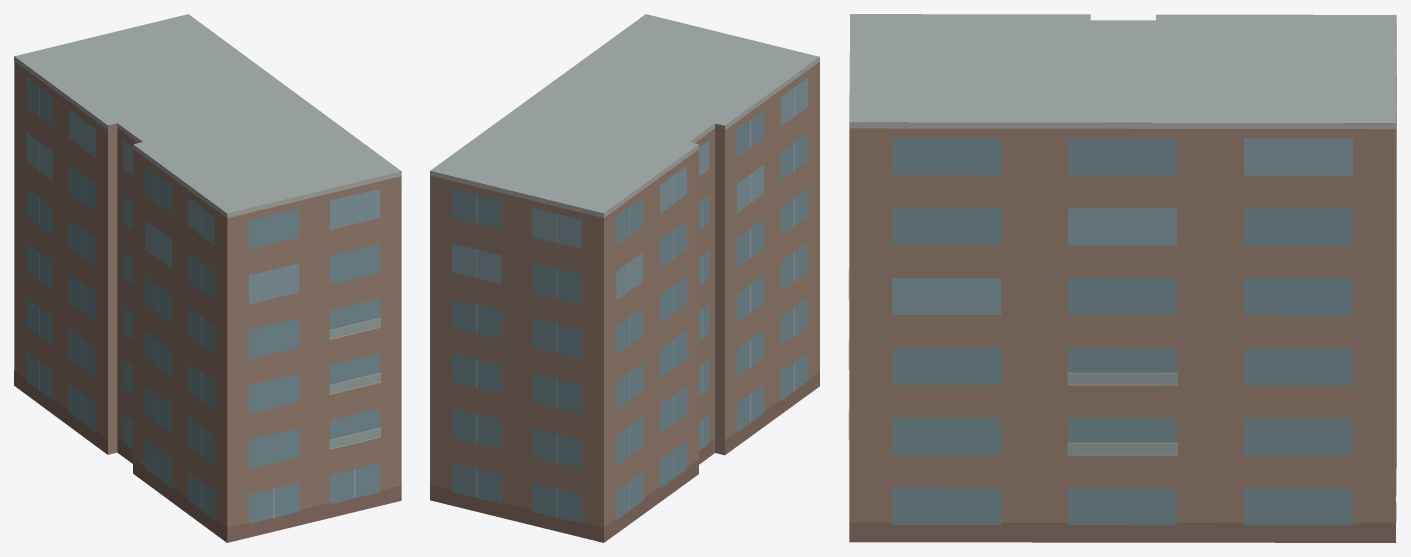
The model's file is survey-upis-32701344.glb.
3 renders of one model, left to right at view 1: azimuth 30°, elevation 25°; view 2: azimuth 150°, elevation 25°; view 3: azimuth 270°, elevation 25°, orthographic. The views are drawn at different scales.
Parts seen in each view (by area): view 1: survey-upis-32701344.tmp; view 2: survey-upis-32701344.tmp; view 3: survey-upis-32701344.tmp.
Boxes of the visible parts, box(x1,y1,x2,y2) form: survey-upis-32701344.tmp: box(14, 14, 401, 542); survey-upis-32701344.tmp: box(430, 14, 819, 542); survey-upis-32701344.tmp: box(848, 14, 1396, 542).
Size of the model in its own units: 9.44 by 16.9 by 20.01.
